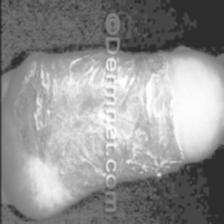Non-Cancerous Skin Condition: (119, 52, 186, 169), (40, 54, 102, 158)
